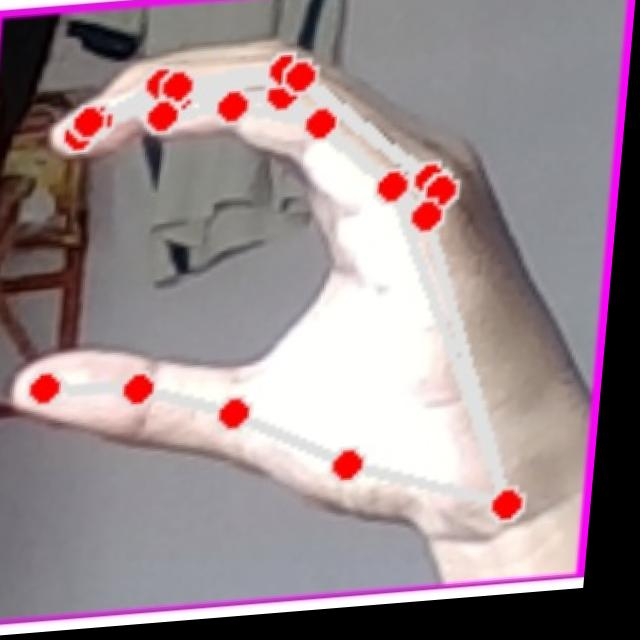C: (0, 0, 620, 600)
